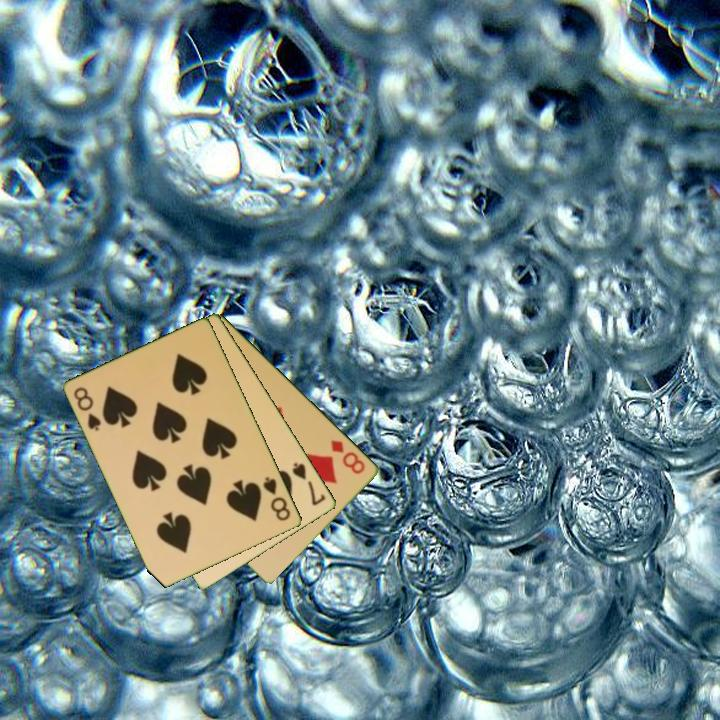7s: (289, 459, 329, 509)
8d: (328, 436, 368, 477)
8s: (260, 473, 294, 524), (70, 383, 104, 434)
